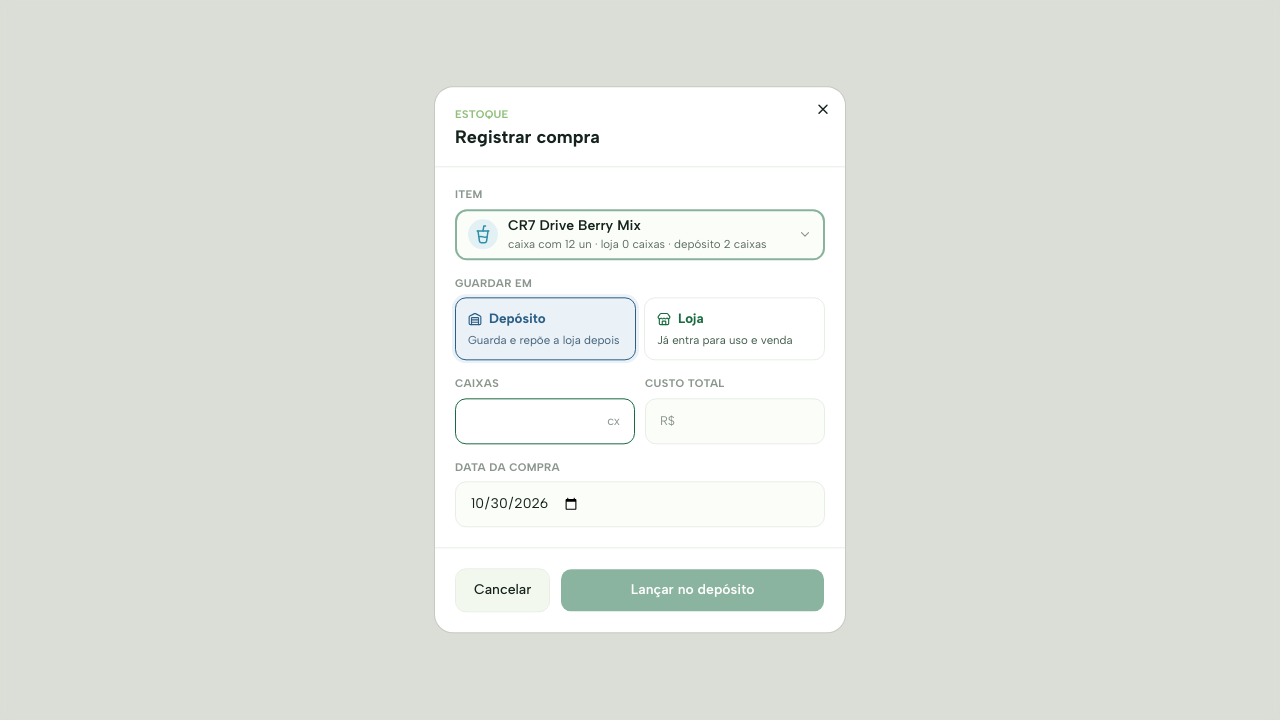
Scenario: RegistrarCompraDialog › stores in the depósito by default and says so on the button; Loja switches both
Expected: the button "Lançar no depósito" is shown, [560, 569, 825, 613]
Click the button "Loja Já entra para uso e venda". click: {"x": 734, "y": 329}
box: [644, 298, 825, 360]
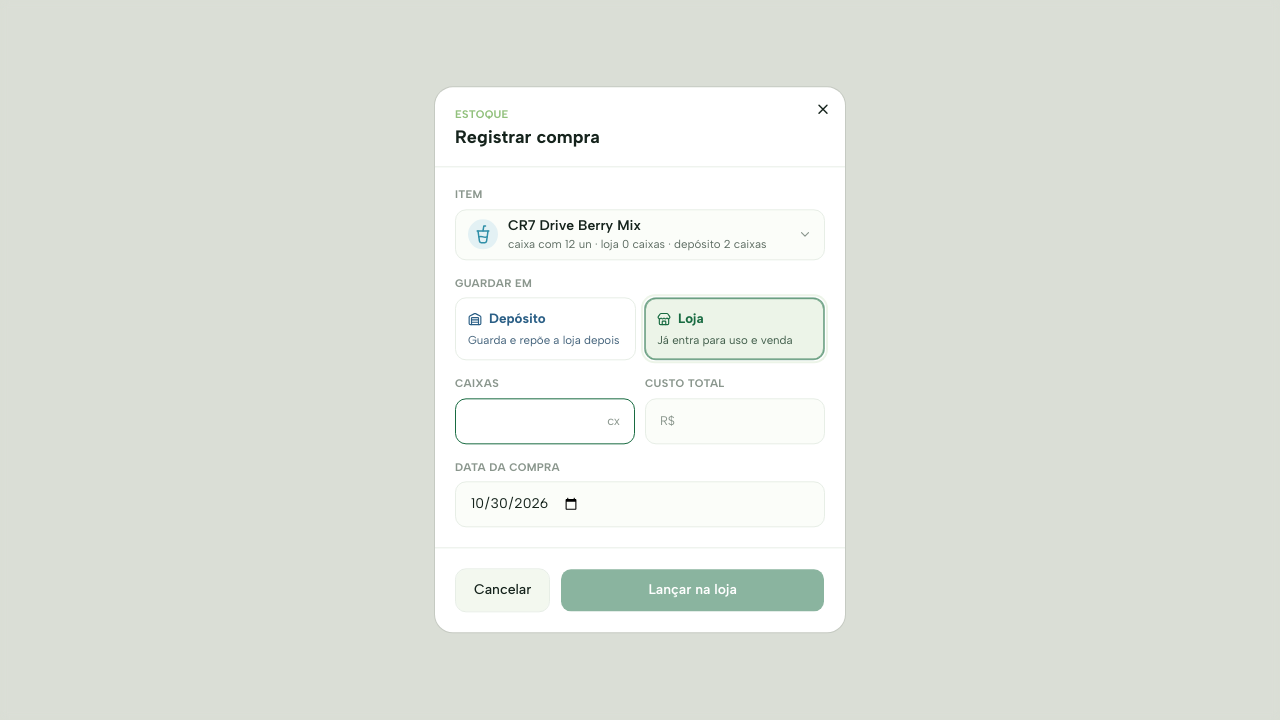
Expected: the button "Lançar na loja" is shown, [560, 569, 825, 613]
